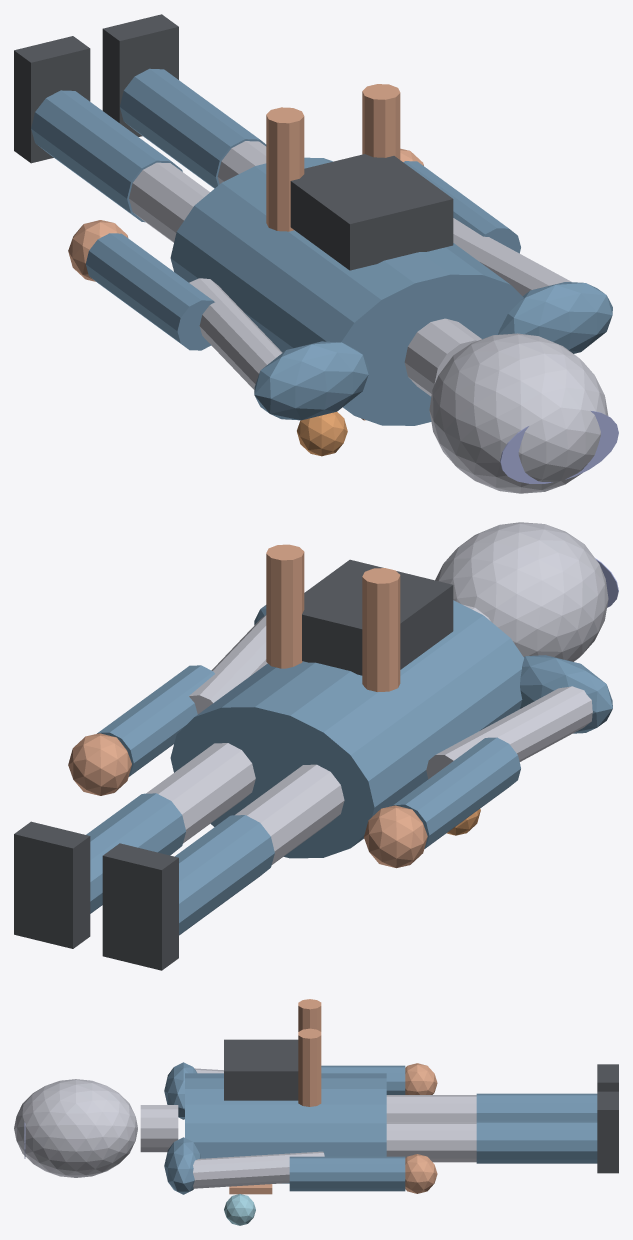
Rendered from SWN-025_iren_sol.glb.
The picture shows the model from 3 angles, top to bottom: view 1: azimuth 30°, elevation 25°; view 2: azimuth 150°, elevation 25°; view 3: azimuth 270°, elevation 25°; orthographic projection. The views are drawn at different scales.
Parts seen in each view (by area): view 1: body_spine, head, back_thruster_pack, greave_-1, greave_1, forearm_gauntlet_-1, shoulder_plate_-1, boot_-1, shoulder_plate_1, boot_1, upper_arm_-1, aether_thruster_-1 (+9 smaller); view 2: body_spine, head, back_thruster_pack, boot_1, boot_-1, greave_-1, forearm_gauntlet_-1, thigh_-1, thigh_1, upper_arm_-1, forearm_gauntlet_1, greave_1 (+6 smaller); view 3: body_spine, head, greave_1, back_thruster_pack, forearm_gauntlet_1, thigh_1, greave_-1, upper_arm_1, thigh_-1, aether_thruster_1, boot_1, neck (+9 smaller).
Part boxes in pixels (bbox=[...]): body_spine: bbox=[170, 157, 523, 425]; head: bbox=[429, 333, 608, 493]; back_thruster_pack: bbox=[290, 154, 453, 270]; greave_-1: bbox=[31, 90, 182, 222]; greave_1: bbox=[120, 68, 266, 188]; forearm_gauntlet_-1: bbox=[85, 233, 214, 350]; shoulder_plate_-1: bbox=[254, 341, 368, 420]; boot_-1: bbox=[14, 36, 90, 163]; shoulder_plate_1: bbox=[498, 282, 612, 353]; boot_1: bbox=[102, 14, 178, 136]; upper_arm_-1: bbox=[189, 278, 282, 389]; aether_thruster_-1: bbox=[266, 107, 304, 231]; body_spine: bbox=[170, 600, 523, 858]; head: bbox=[435, 522, 608, 661]; back_thruster_pack: bbox=[302, 559, 453, 675]; boot_1: bbox=[14, 821, 90, 948]; boot_-1: bbox=[102, 843, 178, 970]; greave_-1: bbox=[175, 815, 274, 935]; forearm_gauntlet_-1: bbox=[392, 737, 520, 848]; thigh_-1: bbox=[235, 764, 344, 864]; thigh_1: bbox=[146, 743, 255, 843]; upper_arm_-1: bbox=[426, 686, 592, 779]; forearm_gauntlet_1: bbox=[97, 665, 214, 776]; greave_1: bbox=[86, 793, 185, 913]; body_spine: bbox=[185, 1073, 386, 1183]; head: bbox=[14, 1079, 137, 1177]; greave_1: bbox=[476, 1120, 597, 1163]; back_thruster_pack: bbox=[224, 1039, 298, 1100]; forearm_gauntlet_1: bbox=[289, 1156, 405, 1191]; thigh_1: bbox=[386, 1122, 476, 1162]; greave_-1: bbox=[476, 1093, 597, 1120]; upper_arm_1: bbox=[193, 1151, 324, 1188]; thigh_-1: bbox=[386, 1095, 476, 1121]; aether_thruster_1: bbox=[298, 1028, 321, 1106]; boot_1: bbox=[597, 1091, 618, 1173]; neck: bbox=[140, 1105, 178, 1152].
Bounding box in the file's own units: 0.9708 × 0.76 × 2.25.
